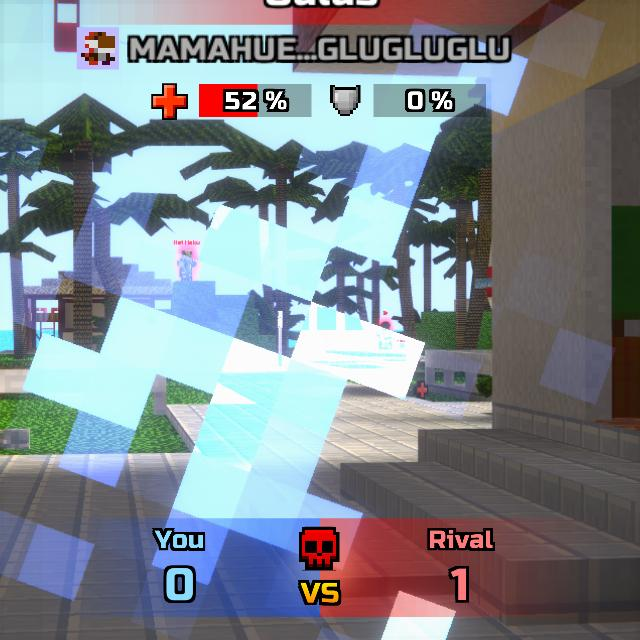Enemy: (177, 250, 197, 281), (379, 321, 391, 330)
